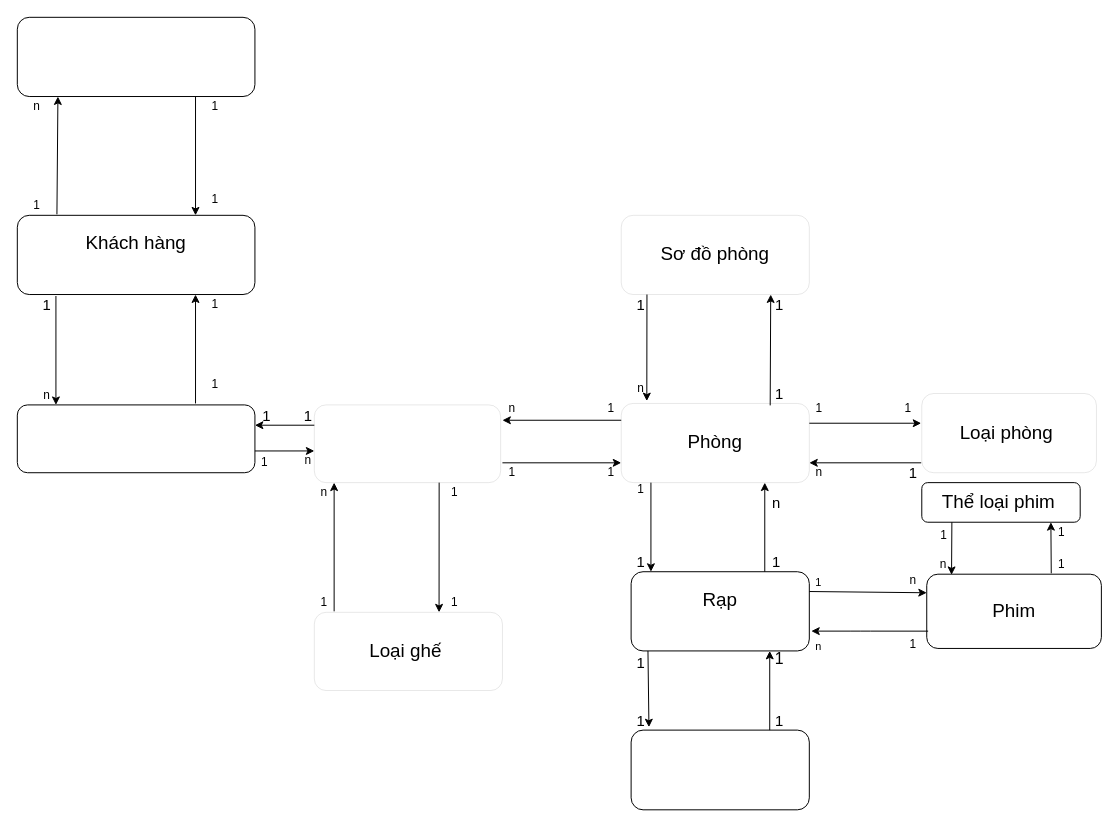
Some shapes in this 1119 by 828 pixel diagram are drawn without their labels. Here are the shapes that lost their labels. From the top down, the centre of each, then its label:
At point 135,56: "Thẻ thành viên".
At point 135,438: "Hoá đơn".
At point 407,443: "Ghế".
At point 719,769: "Admin".
